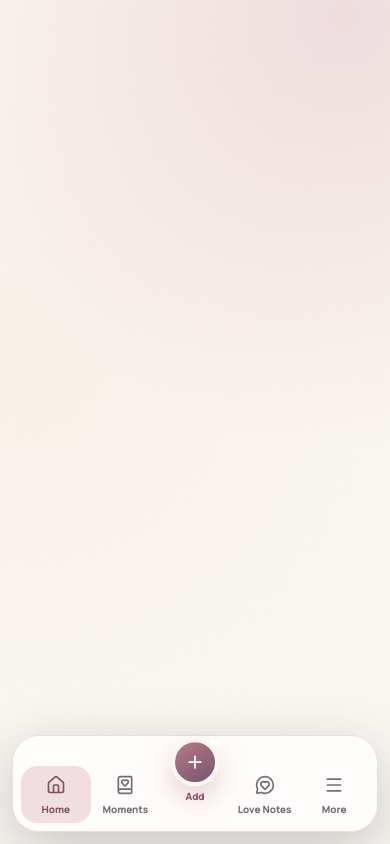
mobile app navigation › keeps Love Notes directly reachable and exposes every other feature
Click the button "More" at (334, 795), box [299,766,369,823]
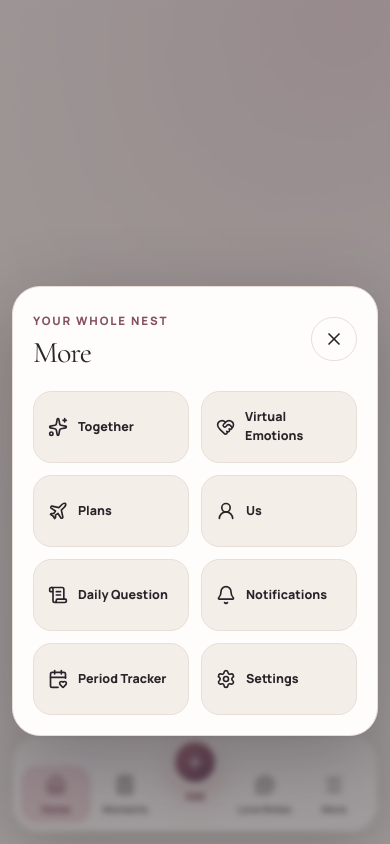
Now the dialog named "All Nest features" is shown, box [12,286,378,736]
